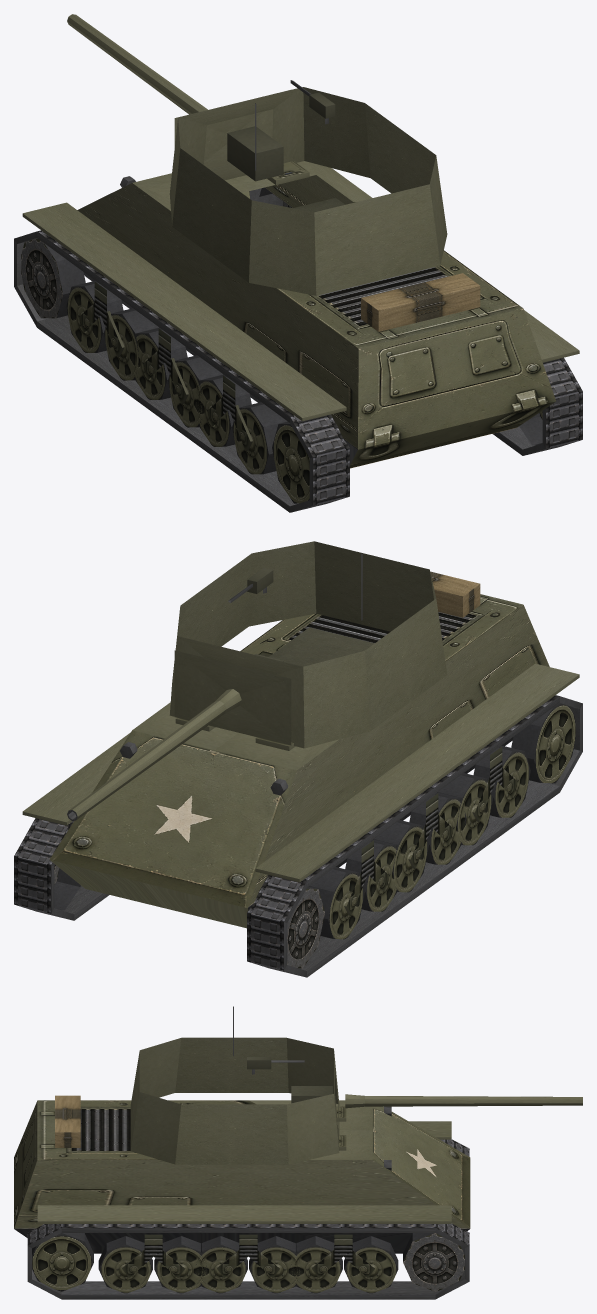
3 views of the same model, one above another, from view 1: azimuth 30°, elevation 25°; view 2: azimuth 150°, elevation 25°; view 3: azimuth 270°, elevation 25° (orthographic). The views are drawn at different scales.
Parts seen in each view (by area): view 1: Cosmetic_hull_Olive, Cosmetic_wheels, Cosmetic_track_left, Armor_turret_wall_4, Armor_hull_1_6, Armor_hull_1_5, Armor_hull_1_4, Armor_hull_1_7, Armor_turret_wall_6, Armor_turret_wall_5, Cosmetic_gun_recoil, Armor_turret_wall_1 (+15 smaller); view 2: Cosmetic_hull_Olive, Cosmetic_wheels, Armor_hull_1_0, Cosmetic_track_left, Armor_hull_1_1, Armor_hull_1_6, Armor_turret_wall_4, Armor_hull_1_7, Armor_turret_wall_6, Armor_turret_wall_7, Cosmetic_track_right, Armor_turret_wall_3 (+17 smaller); view 3: Cosmetic_wheels, Armor_hull_1_3, Cosmetic_hull_Olive, Cosmetic_track_right, Armor_hull_1_2, Armor_turret_wall_2, Armor_turret_wall_6, Cosmetic_suspension, Armor_hull_1_0, Armor_hull_1_1, Cosmetic_gun_recoil, Armor_turret_wall_1 (+14 smaller).
Boxes of the visible parts, x1,y1,x2,y2 form: Cosmetic_hull_Olive: (22,161,579,421); Cosmetic_wheels: (21,187,542,503); Cosmetic_track_left: (14,230,349,512); Armor_turret_wall_4: (314,184,440,295); Armor_hull_1_6: (205,257,358,449); Armor_hull_1_5: (358,329,456,449); Armor_hull_1_4: (441,308,555,425); Armor_hull_1_7: (77,183,213,303); Armor_turret_wall_6: (172,148,251,282); Armor_turret_wall_5: (249,200,316,295); Cosmetic_gun_recoil: (67,14,283,181); Armor_turret_wall_1: (303,87,370,177); Cosmetic_hull_Olive: (22,571,579,882); Cosmetic_wheels: (54,703,575,968); Armor_hull_1_0: (149,750,296,907); Cosmetic_track_left: (247,695,582,977); Armor_hull_1_1: (49,730,214,883); Armor_hull_1_6: (383,605,549,767); Armor_turret_wall_4: (314,541,433,631); Armor_hull_1_7: (248,722,391,907); Armor_turret_wall_6: (365,599,447,730); Armor_turret_wall_7: (303,650,370,748); Cosmetic_track_right: (14,818,109,920); Armor_turret_wall_3: (249,541,316,626); Cosmetic_wheels: (32,1233,464,1293); Armor_hull_1_3: (14,1160,248,1228); Cosmetic_hull_Olive: (37,1095,451,1223); Cosmetic_track_right: (27,1223,469,1299); Armor_hull_1_2: (248,1160,469,1228); Armor_turret_wall_2: (175,1104,288,1164); Armor_turret_wall_6: (175,1037,288,1092); Cosmetic_suspension: (122,1234,374,1277); Armor_hull_1_0: (372,1106,470,1192); Armor_hull_1_1: (372,1130,470,1228); Cosmetic_gun_recoil: (291,1086,582,1108); Armor_turret_wall_1: (286,1094,339,1164).
Size of the model in its own units: 3.13 by 3.28 by 7.52.
Materials: 1 (1 with a texture image).
